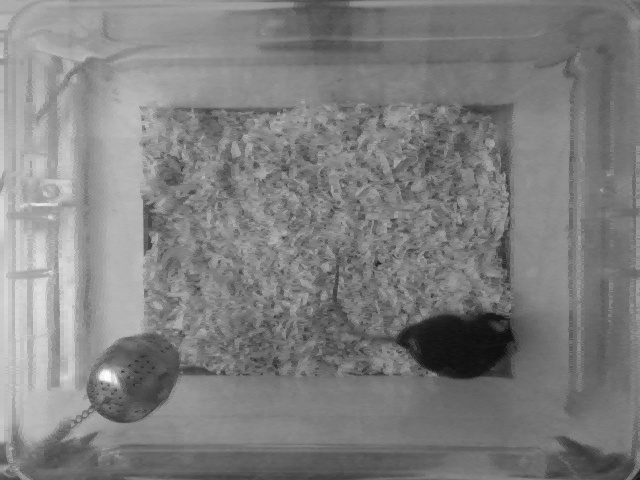mice: (329, 261, 515, 381)
